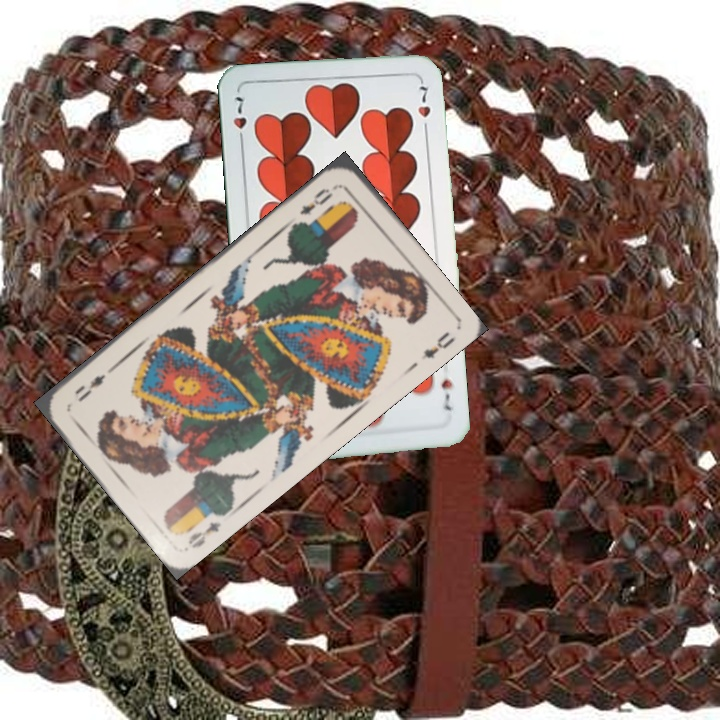EO: (295, 184, 336, 218), (183, 517, 224, 551)
H7: (229, 92, 249, 148), (437, 375, 455, 414)
